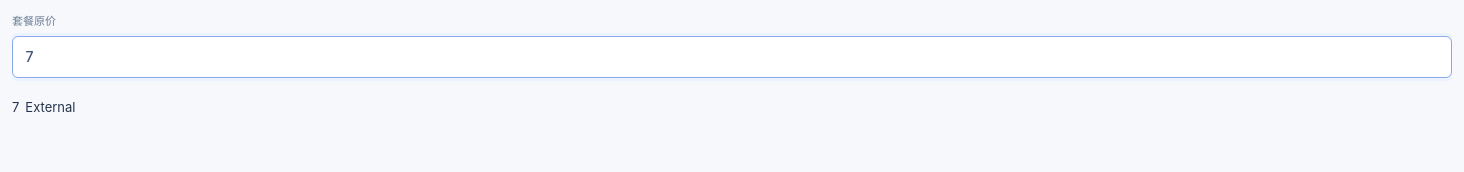
Test case: numeric input drafts › keeps the same input and validation slot when clearing and correcting a value
Check: the element with class "field-error-slot" is shown, box [12,78,1452,98]
Clear the field labelled "套餐原价" at x=732, y=57, box [13,37,1451,77]
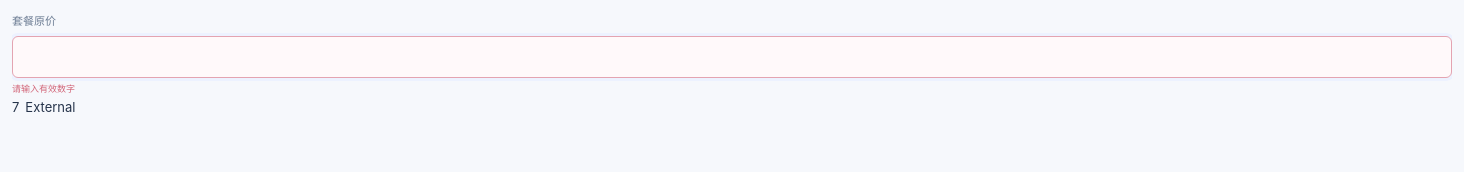
Check: the text with test id "value" reads "7", box [12,99,19,115]
Check: the element with class "field-error-slot" reads "请输入有效数字", box [12,83,75,94]
Type "12.5" into the field labelled "套餐原价".
click(732, 57); type("12.5")  # box [13,37,1451,77]
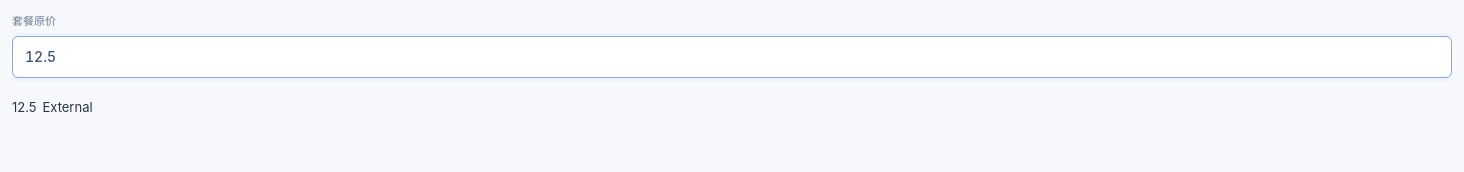
Check: the element with class "field-error-slot" is empty, box [12,78,1452,98]
